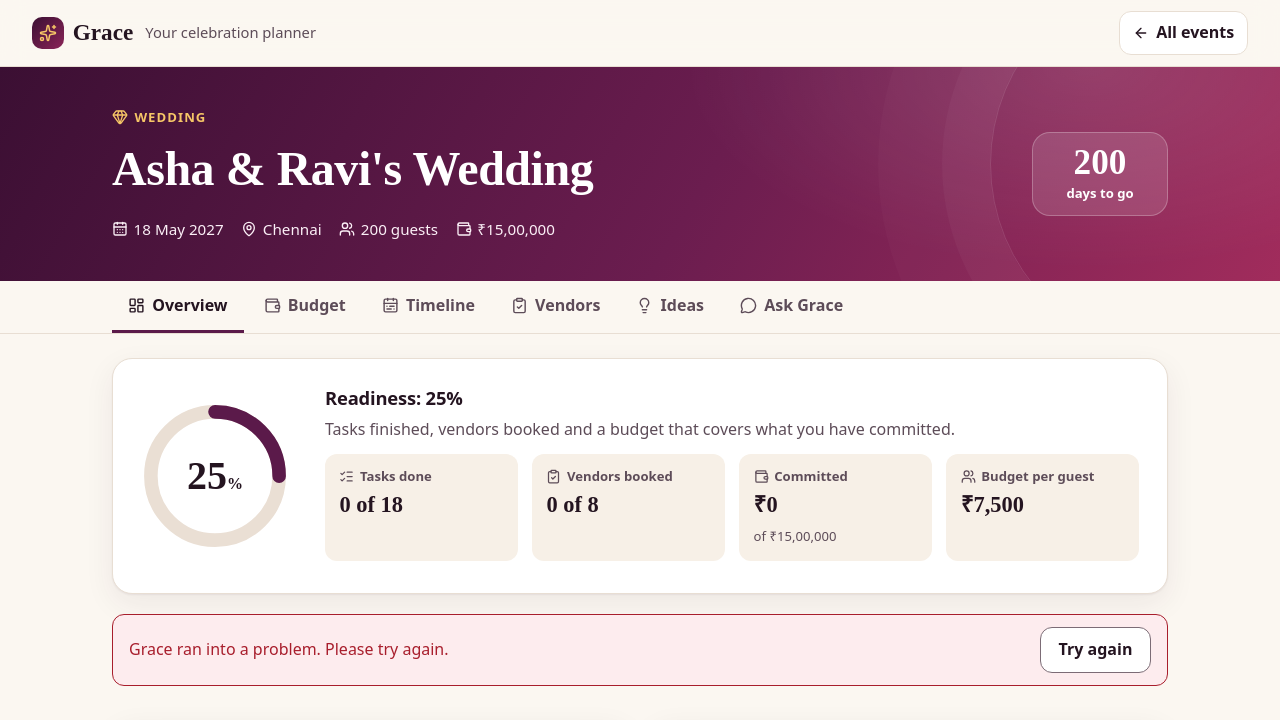
Test: plan workspace › keeps the plan usable when tailoring fails
Expected: the message shows "ran into a problem", [129,638,448,660]
Expected: the heading "Readiness: 25%" is shown, [325,385,463,410]
Step 1. Click the button "Try again" → x=1096, y=650, box [1040,626,1151,672]
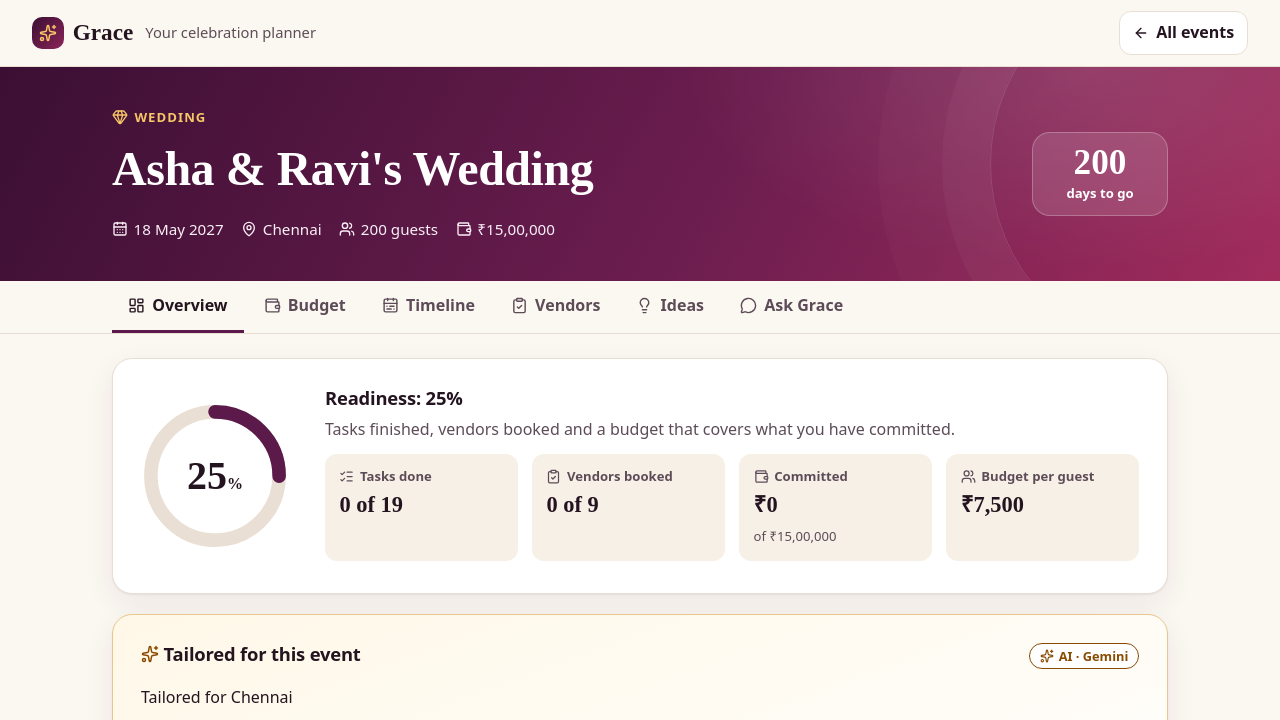
Result: the text "Tailored for Chennai" is shown at [141,686,293,708]
